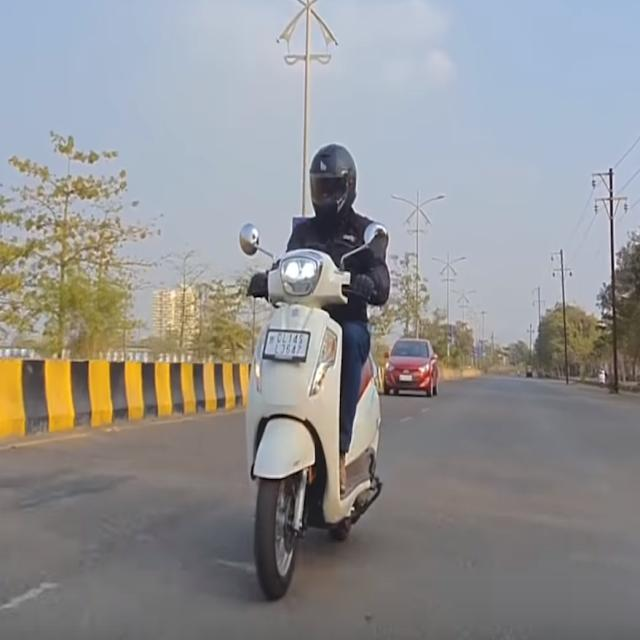helmet: (310, 142, 357, 218)
